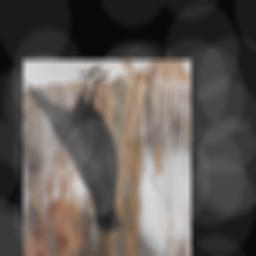Crow: (27, 64, 125, 236)
